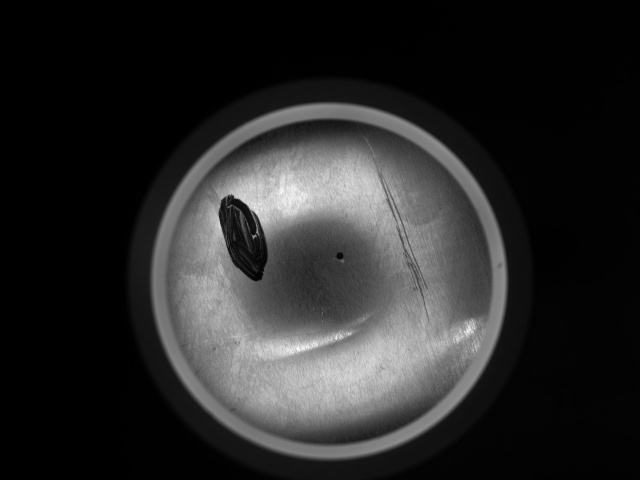ca_shang: (365, 138, 426, 324)
zang_wu: (216, 193, 271, 283)
zhen_kong: (333, 249, 348, 264)
